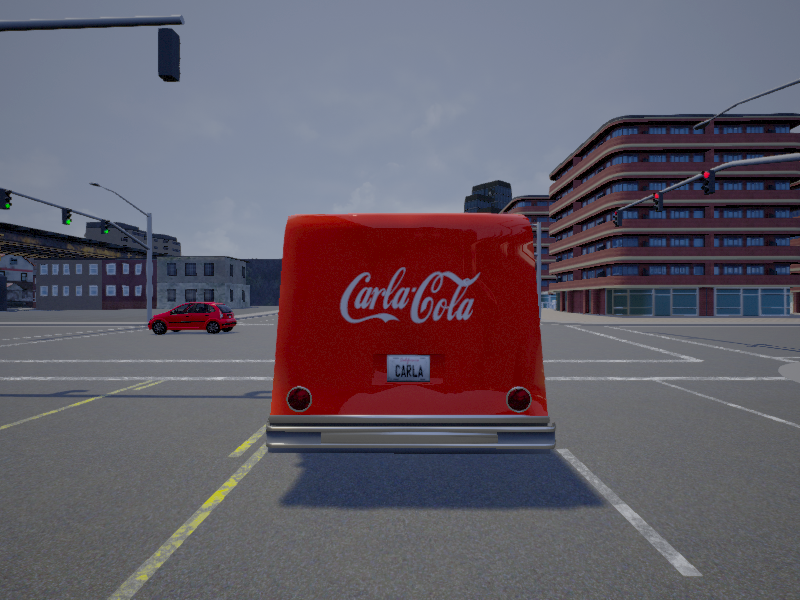benign: (264, 215, 560, 459), (146, 303, 237, 334)
